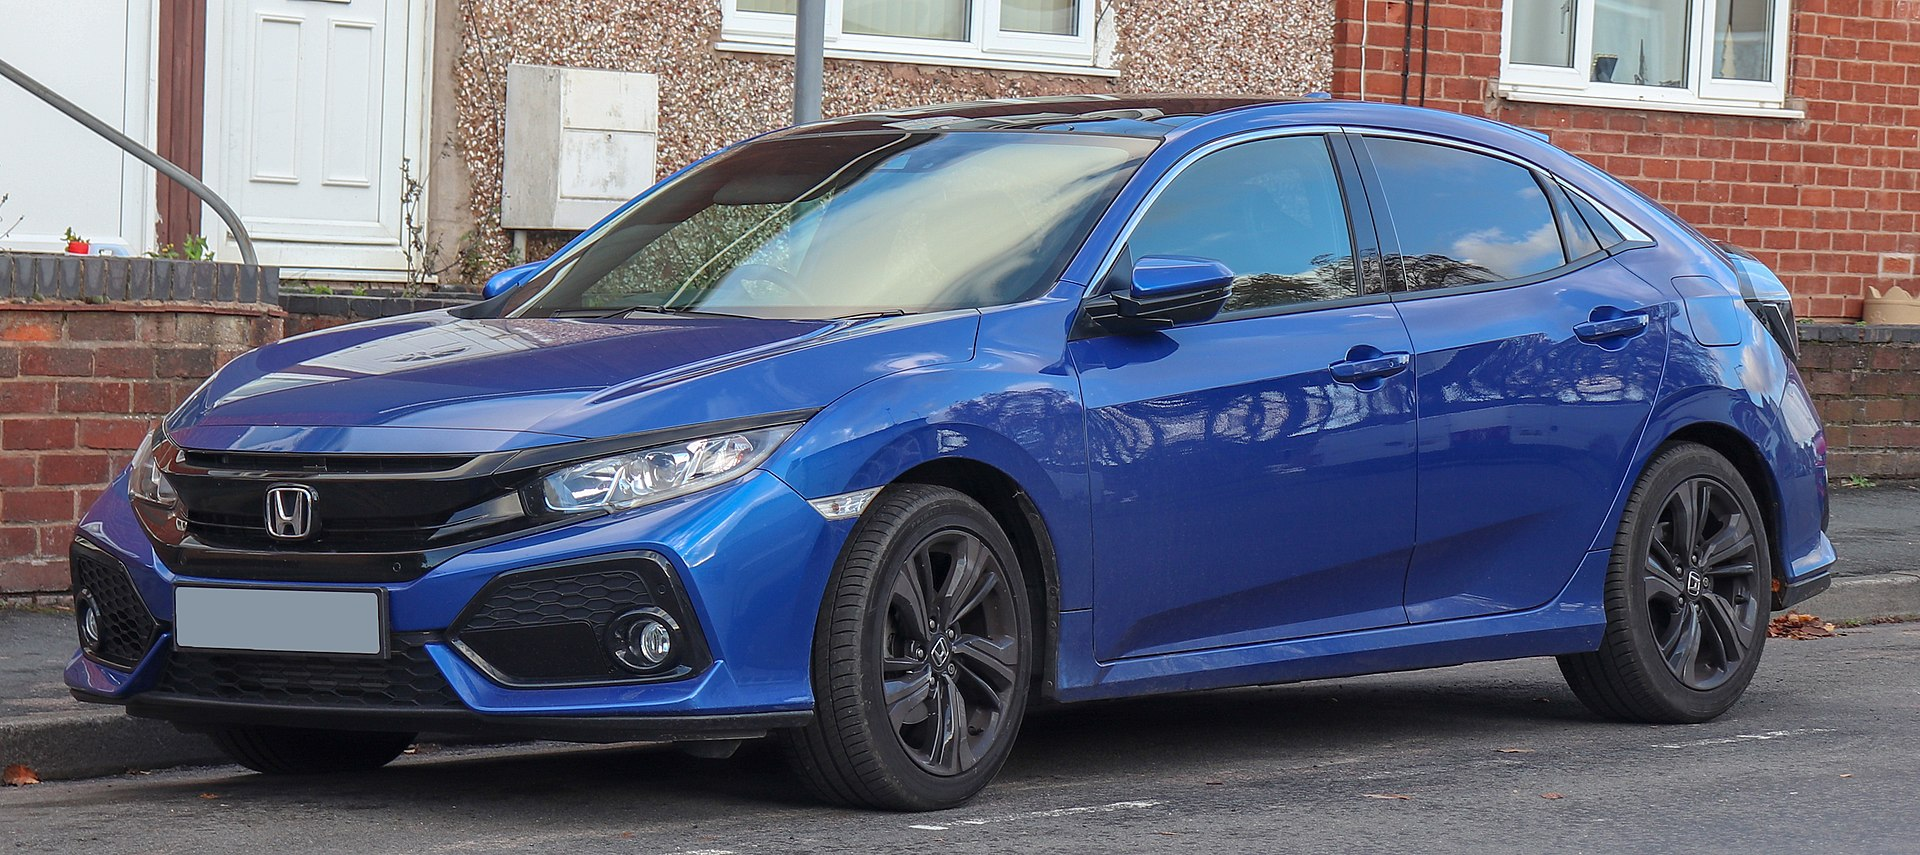araba: (69, 91, 1839, 817)
